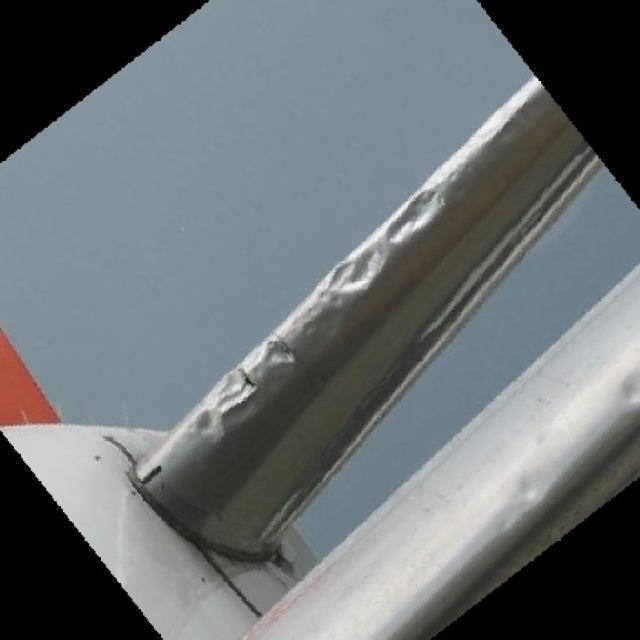dent: (378, 193, 447, 246), (329, 250, 395, 301), (216, 371, 264, 414), (512, 473, 552, 509), (263, 341, 297, 378), (195, 401, 226, 439), (617, 378, 640, 406)
